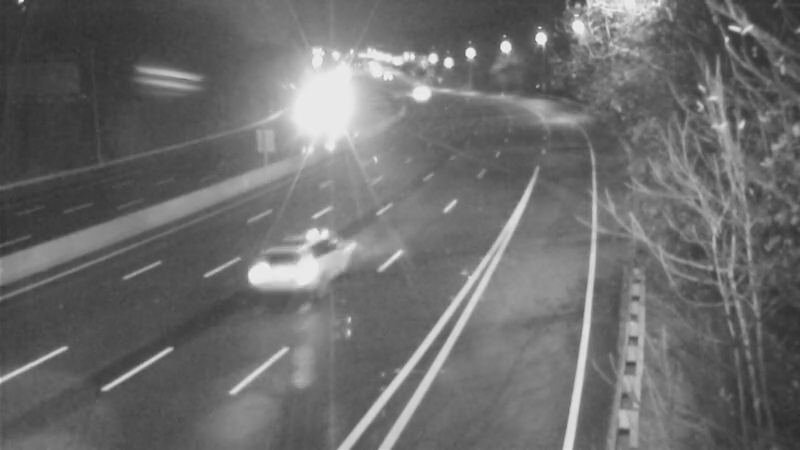vehicle: (257, 227, 337, 307), (396, 69, 446, 119)
